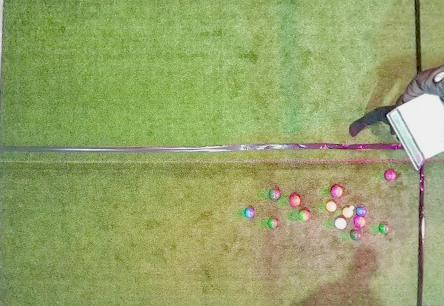blue: (244, 208, 255, 218), (356, 207, 367, 216)
green: (298, 210, 310, 221), (350, 229, 361, 241), (378, 224, 389, 234), (270, 190, 280, 200), (268, 219, 278, 228)
red: (289, 194, 301, 207), (331, 185, 343, 197), (354, 216, 366, 228), (384, 170, 396, 181), (335, 218, 347, 229)
vline: (417, 171, 443, 305), (414, 0, 443, 73), (0, 0, 6, 305)
white: (349, 206, 354, 210)
yellow: (326, 201, 337, 212), (342, 207, 353, 218)
